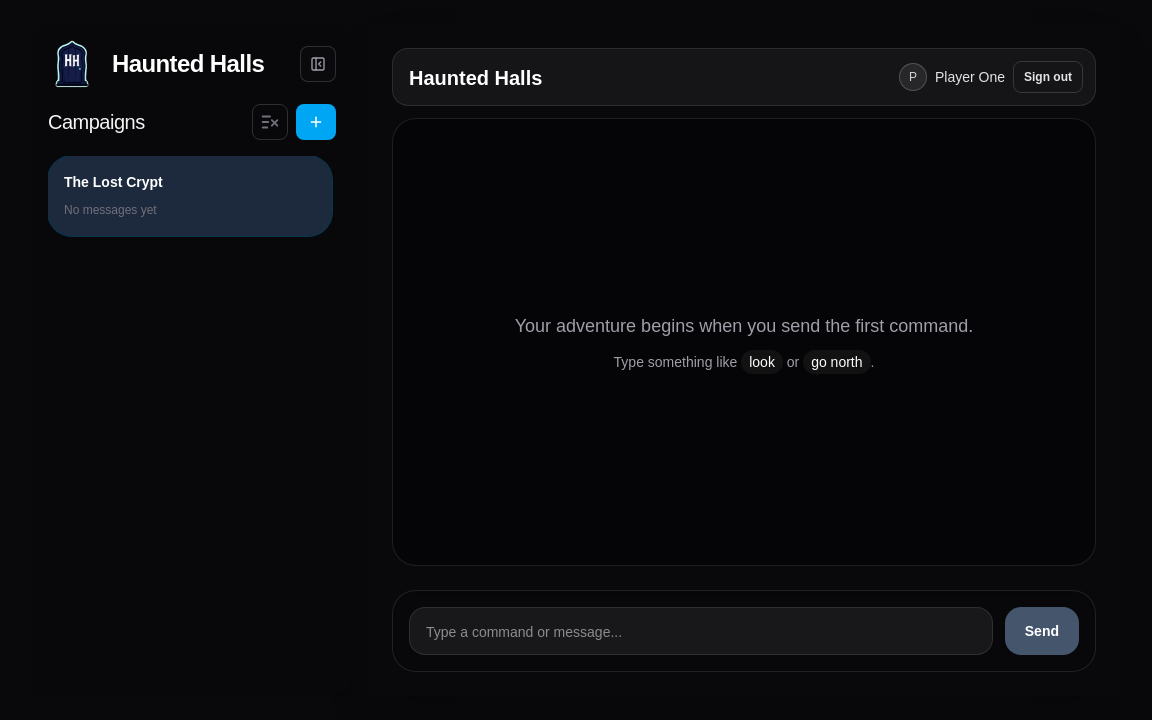
Test: home auth gating › renders daily token limit without retry
Type "test command" into the text box named "Enter your command". click: {"x": 701, "y": 631}
box: [409,607,993,655]
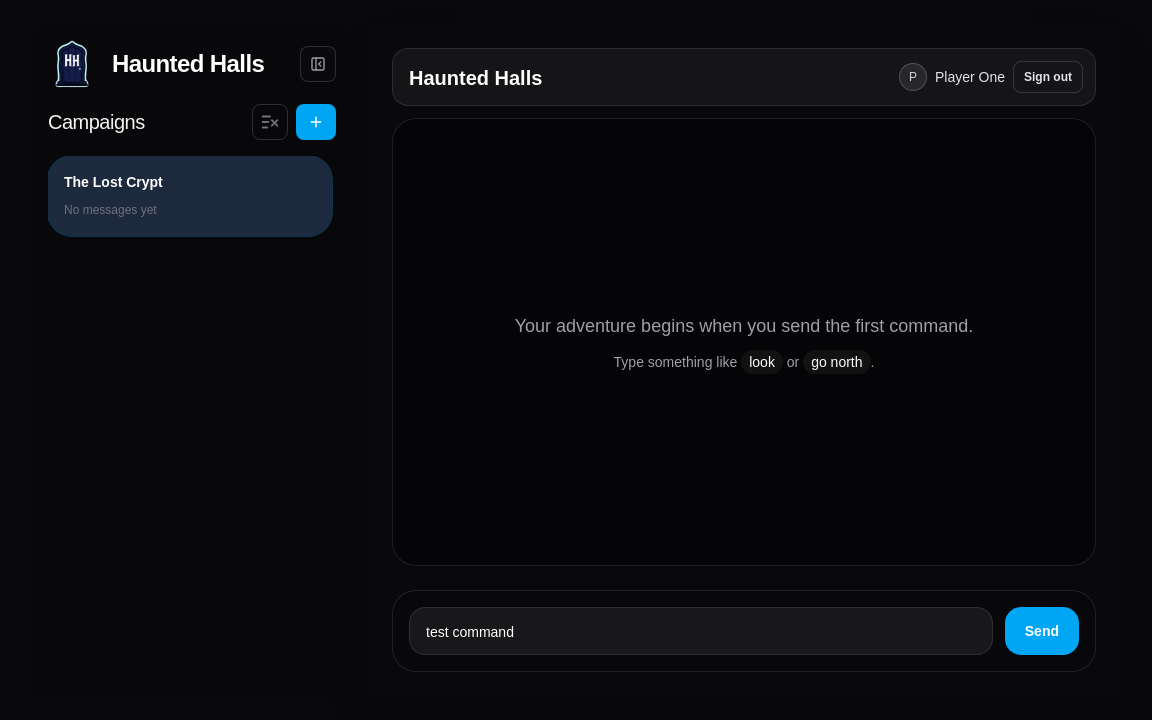
Click the button "Send". click: {"x": 1042, "y": 631}
box: [1005,607,1079,655]
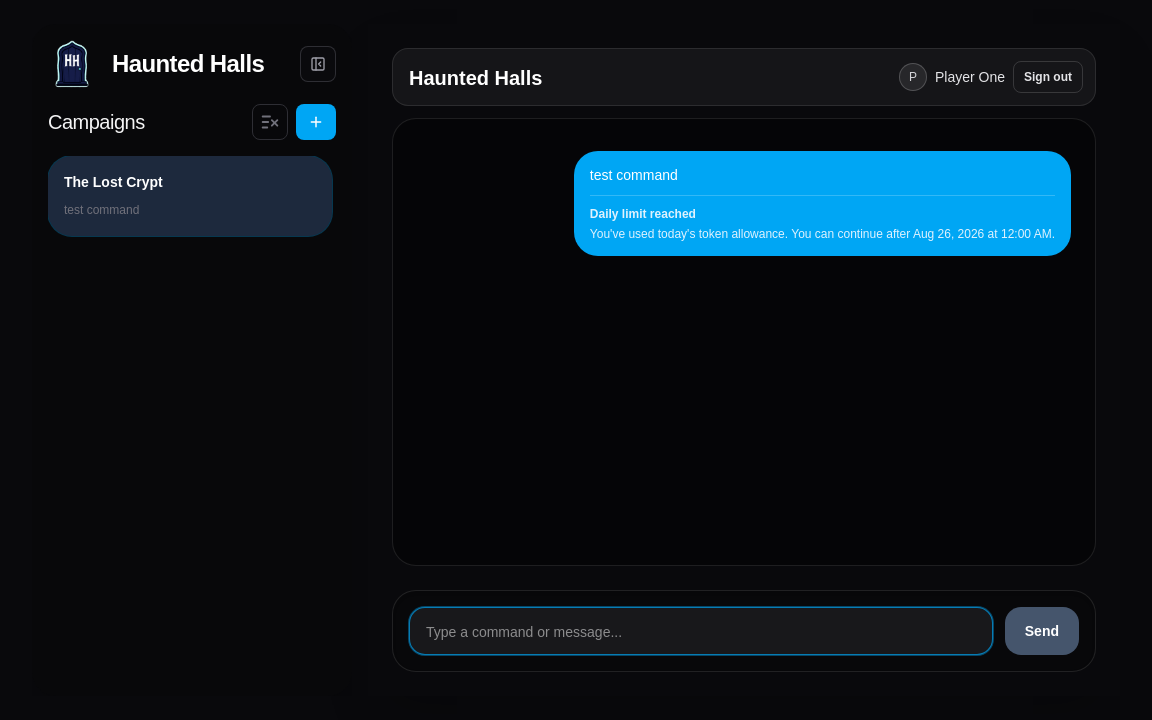
Expected: the text "Daily limit reached" is shown, [590,207,696,221]
Expected: the text "You've used today's token allowance." is shown, [590,227,1055,241]
